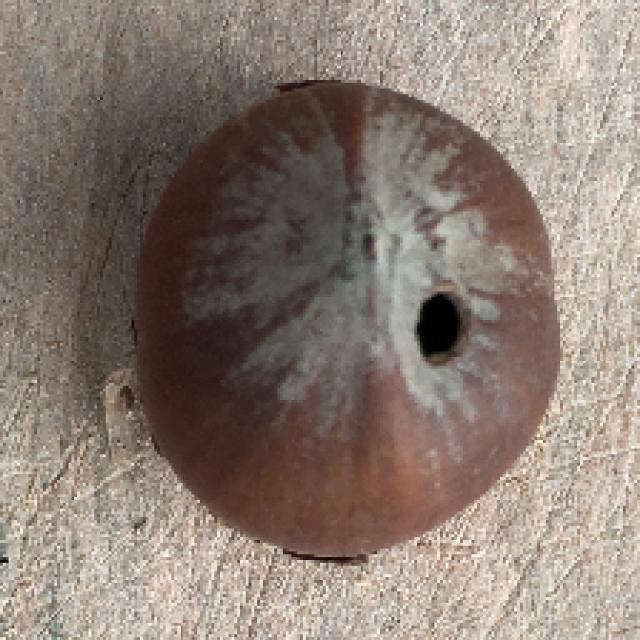DamagedHazelnut: (136, 86, 560, 554)
